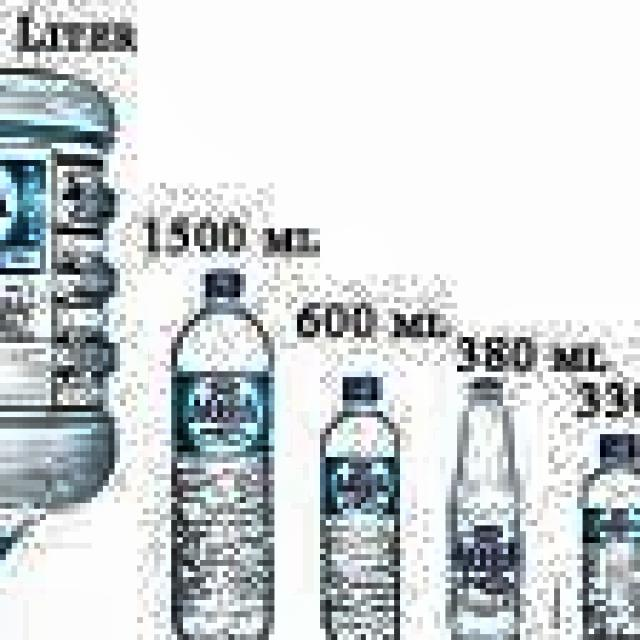plastic: (577, 423, 640, 640)
